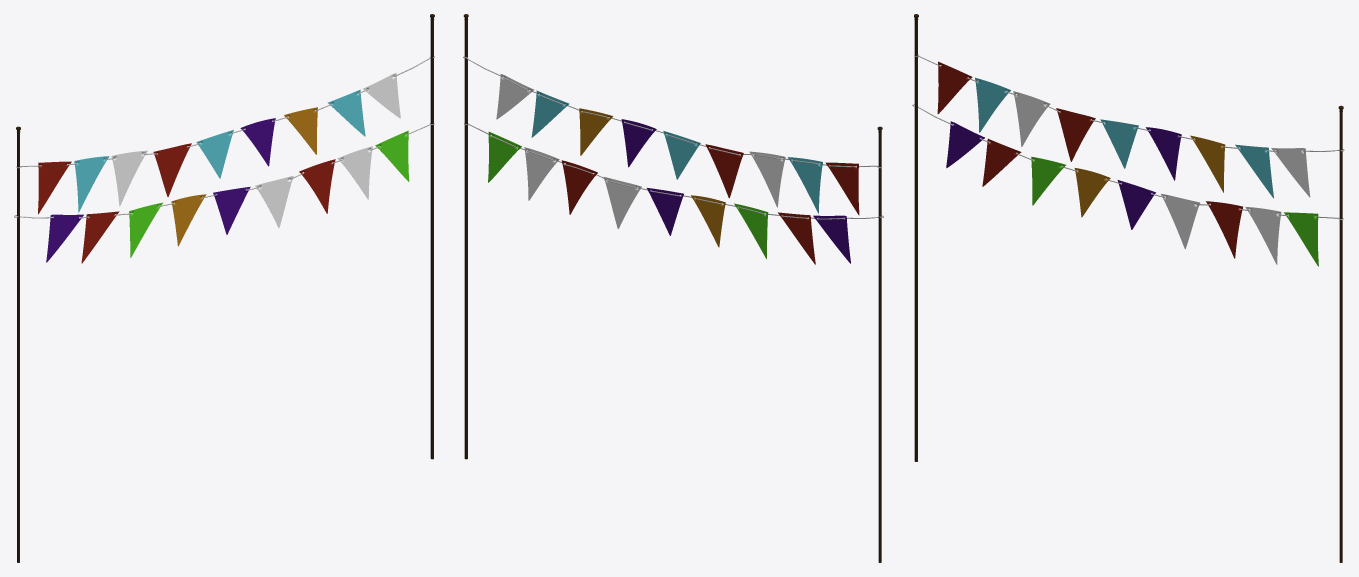
Rendered from Banner03.fbx.
3 views of the same model, side by side, from view 1: azimuth 30°, elevation 25°; view 2: azimuth 150°, elevation 25°; view 3: azimuth 330°, elevation 25° (orthographic). The views are drawn at different scales.
Parts seen in each view (by area): view 1: pole_n3d001; view 2: pole_n3d001; view 3: pole_n3d001.
Boxes of the visible parts, box(x1,y1,x2,y2) form: pole_n3d001: box(14, 14, 434, 562); pole_n3d001: box(463, 14, 883, 562); pole_n3d001: box(912, 14, 1344, 562).
Bounding box in the file's own units: 180 × 182 × 2.12.
